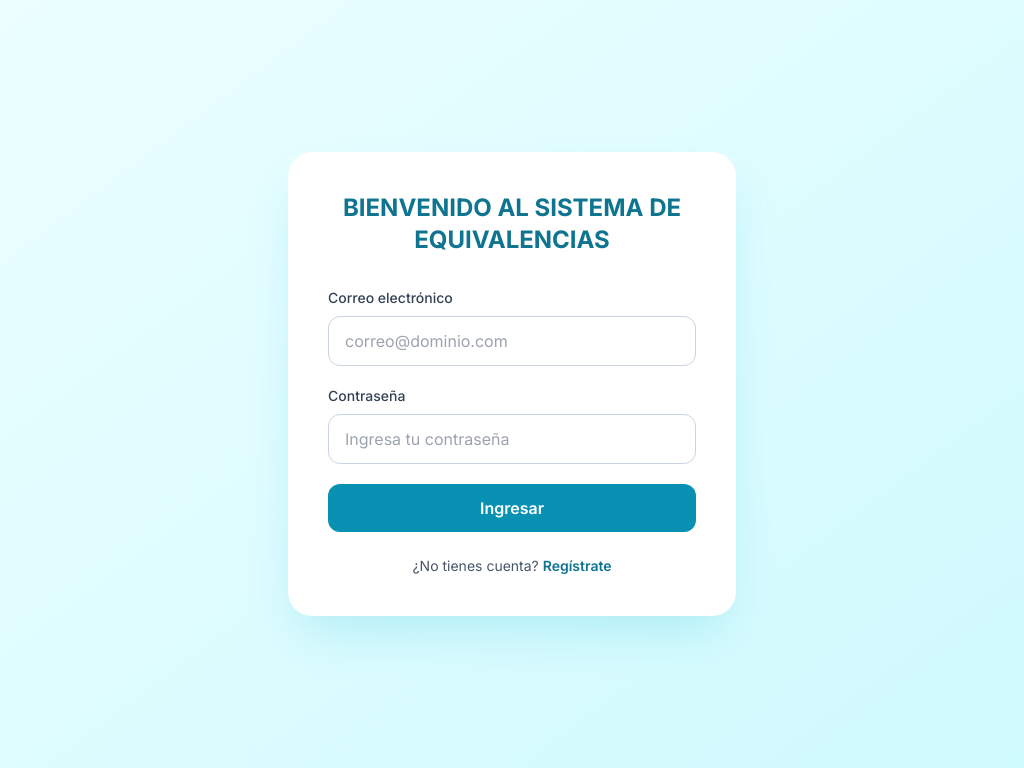
Test: Login Page › debe mostrar error cuando las credenciales son incorrectas
Type "error@test.com" into the field with placeholder "correo@dominio.com" at [512, 341], box [328,316,696,366]
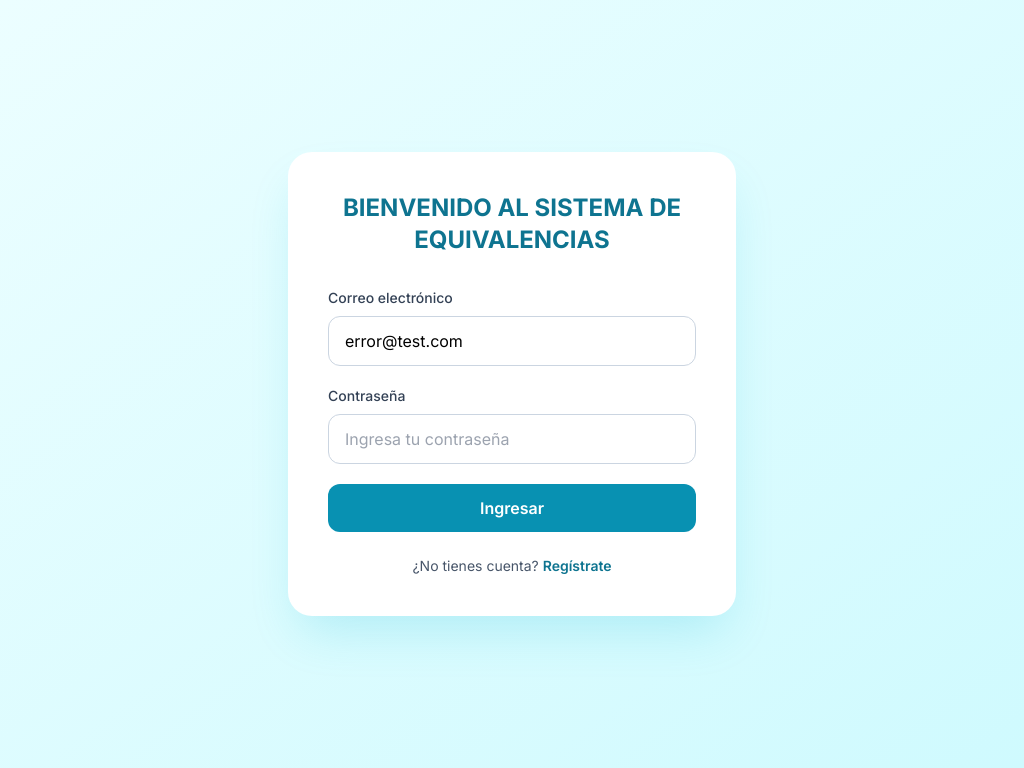
Type "password123" into the password field with placeholder "Ingresa tu contraseña" at [512, 439], box [328,414,696,464]
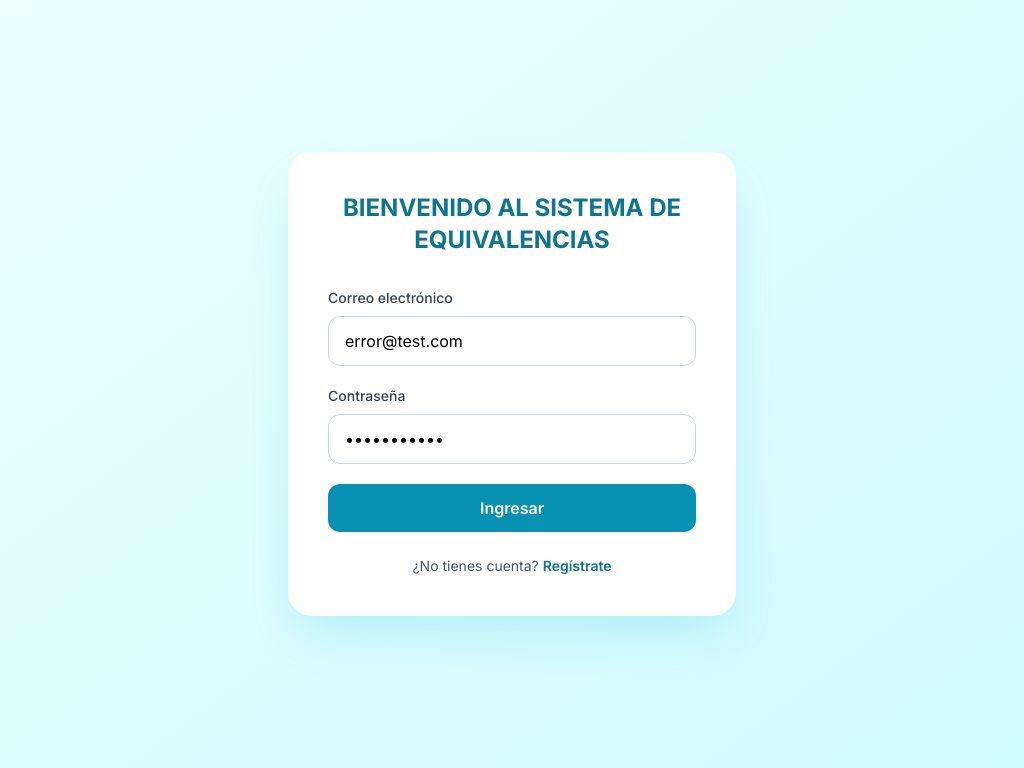
Click the button "Ingresar" at [512, 508], box [328,484,696,532]
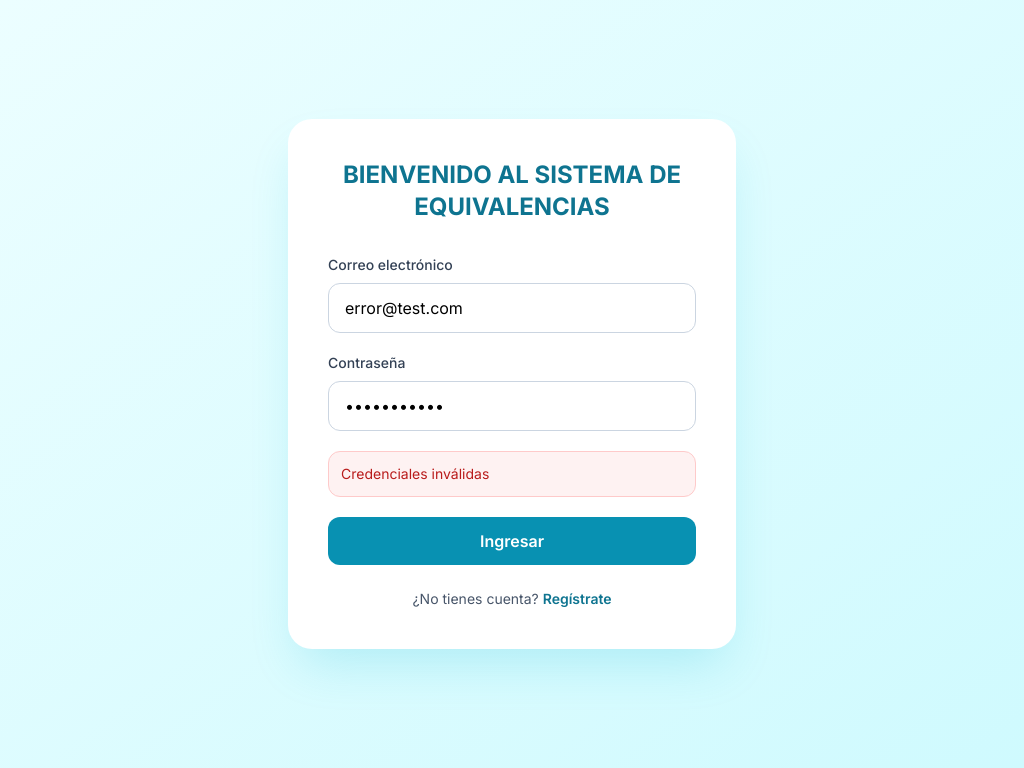
Result: the text "Credenciales inválidas" is shown at [328,451,696,497]
